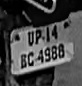1: (44, 26, 51, 43)
4: (50, 25, 61, 41), (37, 49, 44, 65)
8: (58, 43, 65, 58), (51, 44, 57, 60)
9: (44, 46, 51, 63)
B: (20, 52, 27, 69)
C: (27, 50, 35, 68)
P: (35, 28, 42, 45)
U: (27, 30, 34, 47)
